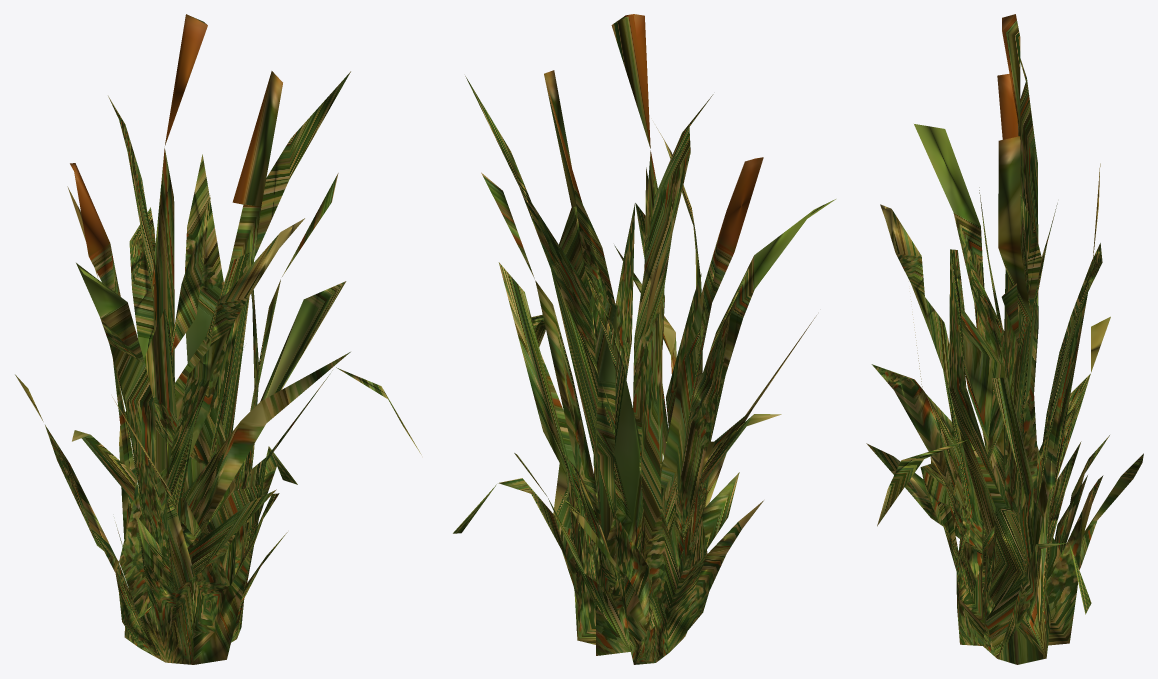
The model's file is reeds.glb.
3 views of the same model, side by side, from view 1: azimuth 30°, elevation 25°; view 2: azimuth 150°, elevation 25°; view 3: azimuth 270°, elevation 25° (orthographic).
Visible parts, largest first — view 1: reeds; view 2: reeds; view 3: reeds.
Boxes of the visible parts, x1,y1,x2,y2 form: reeds: (15,14,421,664); reeds: (453,14,835,664); reeds: (866,14,1143,664).
Bounding box in the file's own units: 0.9117 × 1.7 × 0.6868.
1 material, 1 textured.
